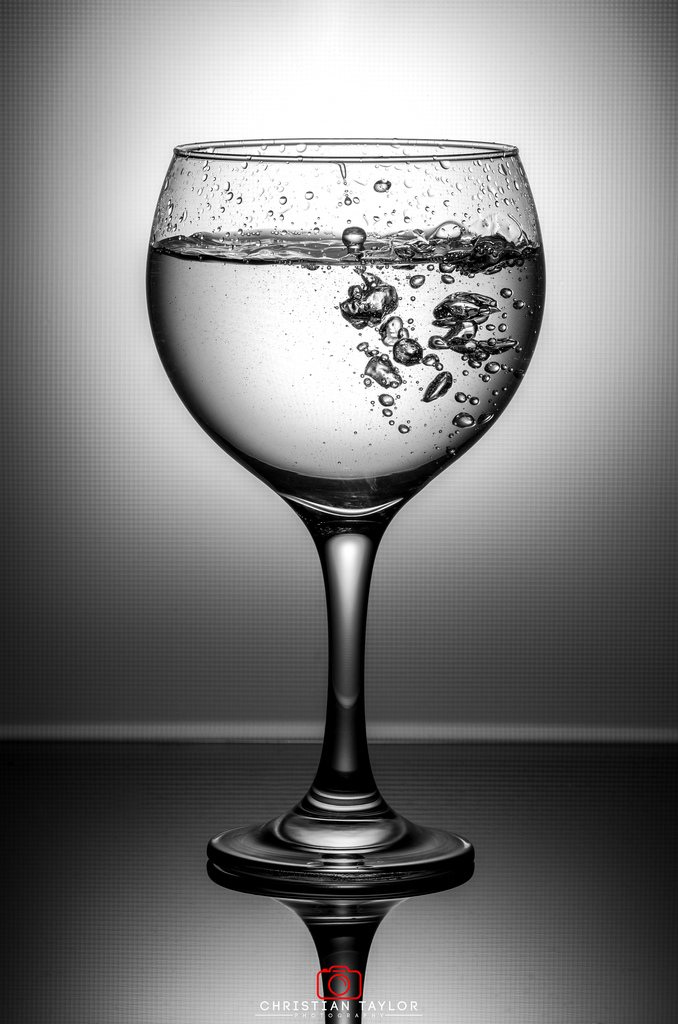glass of water: (141, 138, 575, 949)
